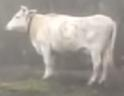cow: (4, 5, 116, 85)
